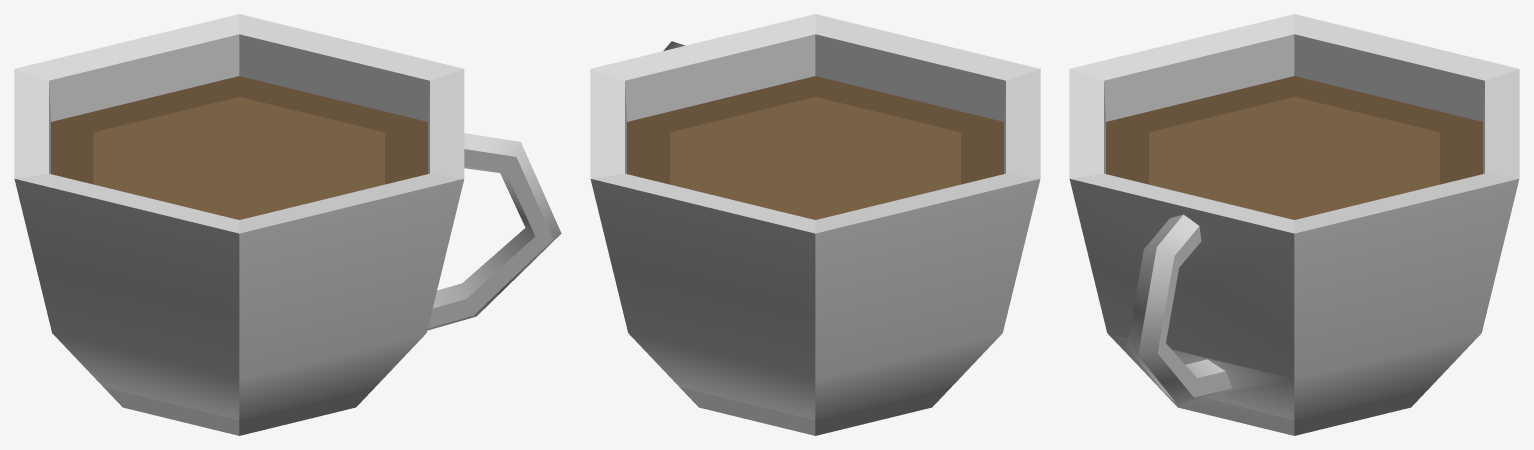
The model's file is coffee_cup.fbx.
The picture shows the model from 3 angles, left to right: view 1: azimuth 30°, elevation 25°; view 2: azimuth 150°, elevation 25°; view 3: azimuth 270°, elevation 25°; orthographic projection.
Parts seen in each view (by area): view 1: coffee_cup; view 2: coffee_cup; view 3: coffee_cup.
Part boxes in pixels (bbox=[...]): coffee_cup: bbox=[14, 14, 561, 435]; coffee_cup: bbox=[590, 14, 1040, 435]; coffee_cup: bbox=[1069, 14, 1519, 435].
Bounding box in the file's own units: 0.3795 × 0.1974 × 0.3153.
